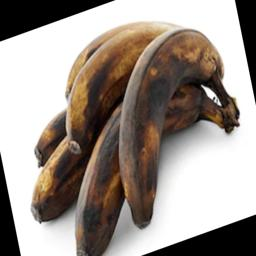Banana Rotten: (10, 10, 238, 256)
